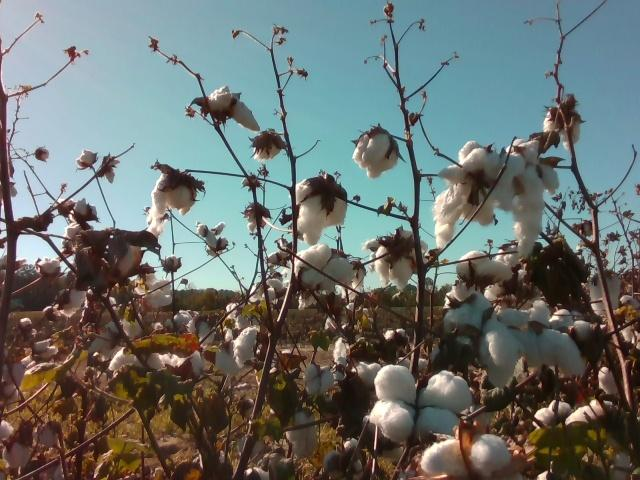cotton_ready: (445, 278, 526, 391), (434, 140, 514, 251), (368, 365, 470, 443), (509, 141, 560, 254), (524, 302, 587, 380), (419, 436, 515, 480), (365, 228, 427, 290), (294, 176, 348, 246), (86, 237, 141, 291), (294, 246, 355, 291), (207, 85, 261, 131), (353, 132, 399, 180), (151, 172, 195, 217), (284, 407, 320, 456), (324, 439, 363, 480), (567, 404, 622, 433), (544, 104, 580, 148), (89, 319, 127, 357), (588, 274, 622, 316), (334, 355, 382, 384), (158, 349, 206, 378), (108, 348, 166, 372), (532, 399, 571, 430), (232, 326, 262, 366), (212, 344, 239, 375), (306, 364, 332, 396), (599, 367, 621, 394)
